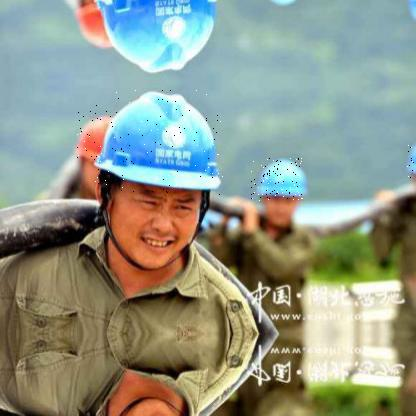safetyhelmet: (93, 90, 224, 196), (251, 158, 305, 202), (75, 112, 117, 162), (407, 146, 415, 180)
